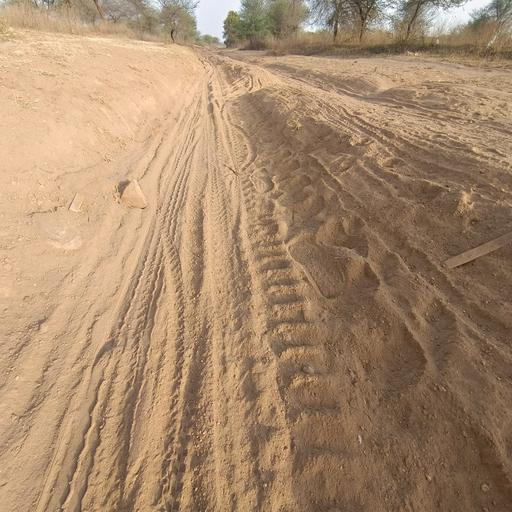vehicle_track: (35, 65, 380, 512)
